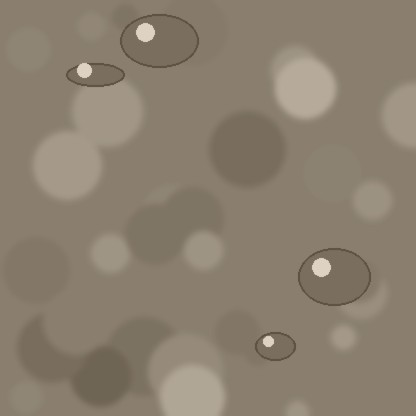gota: (120, 16, 198, 72), (298, 250, 370, 310), (66, 64, 124, 88), (255, 333, 295, 363)
